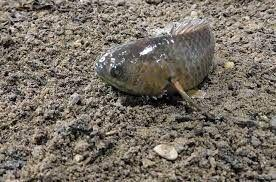Climbing Perch: (91, 13, 214, 117)
